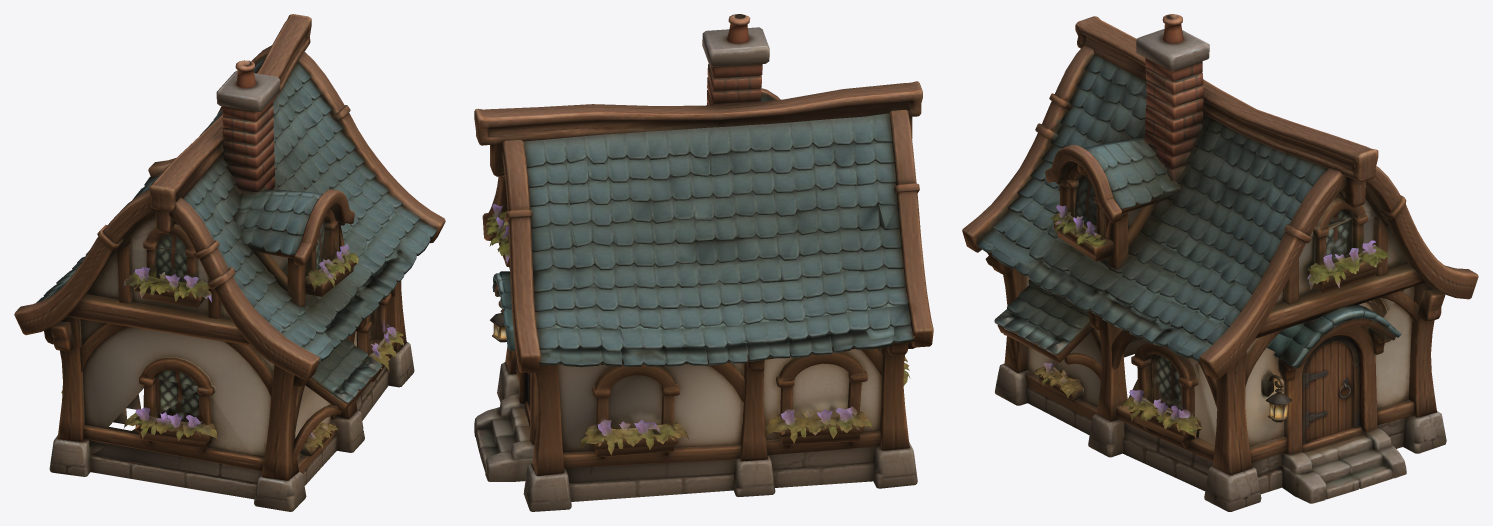
Rendered from ai_teal-cottage.glb.
3 renders of one model, left to right at view 1: azimuth 30°, elevation 25°; view 2: azimuth 150°, elevation 25°; view 3: azimuth 270°, elevation 25°, orthographic. The views are drawn at different scales.
Visible parts, largest first — view 1: tripo_node_82728774-6e0b-44bb-968d-7ee11b88837c; view 2: tripo_node_82728774-6e0b-44bb-968d-7ee11b88837c; view 3: tripo_node_82728774-6e0b-44bb-968d-7ee11b88837c.
Part boxes in pixels (x1=…): tripo_node_82728774-6e0b-44bb-968d-7ee11b88837c: x1=14, y1=14, x2=445, y2=511; tripo_node_82728774-6e0b-44bb-968d-7ee11b88837c: x1=474, y1=14, x2=933, y2=511; tripo_node_82728774-6e0b-44bb-968d-7ee11b88837c: x1=962, y1=14, x2=1478, y2=511.
Bounding box in the file's own units: 4.73 × 4.04 × 4.77.
Materials: 1 (1 with a texture image).
